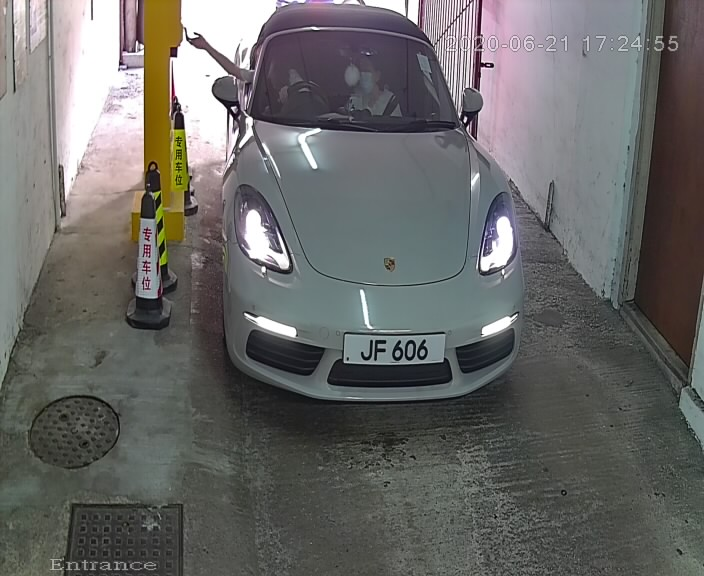privatecar: (193, 1, 534, 439)
